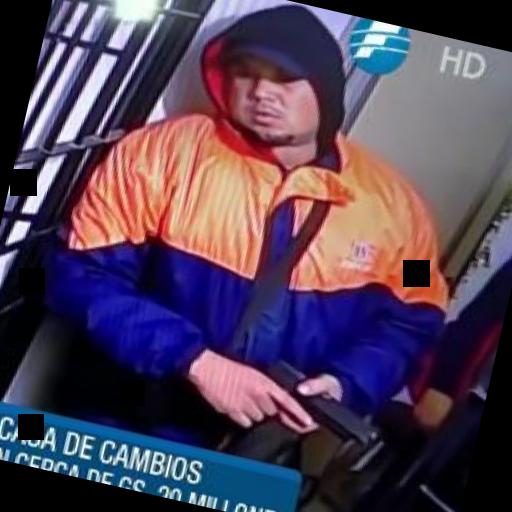Handgun: (218, 342, 396, 460)
